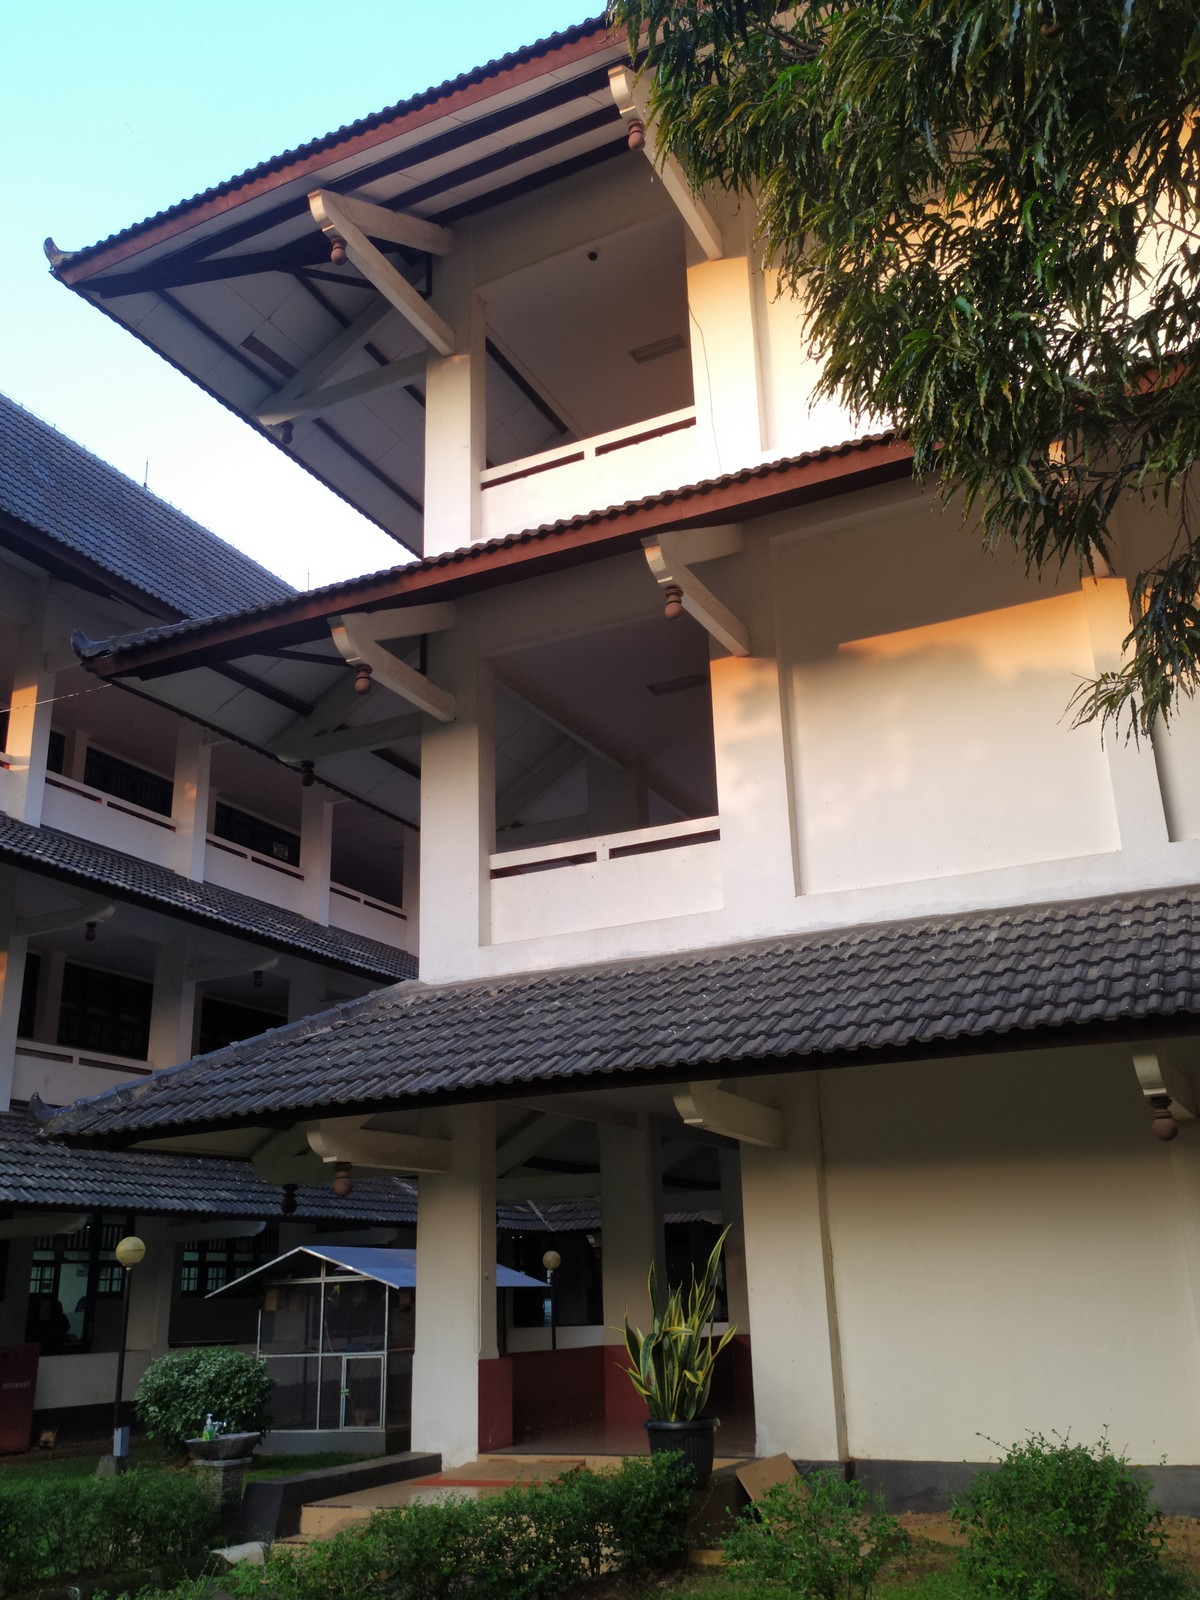concrete beam: (358, 241, 456, 357), (372, 650, 456, 731), (705, 1094, 799, 1155), (353, 1133, 458, 1184)
concrete column: (730, 1099, 855, 1471), (703, 572, 811, 913), (406, 1125, 508, 1451), (408, 641, 505, 973), (677, 184, 773, 457), (413, 301, 499, 551)
